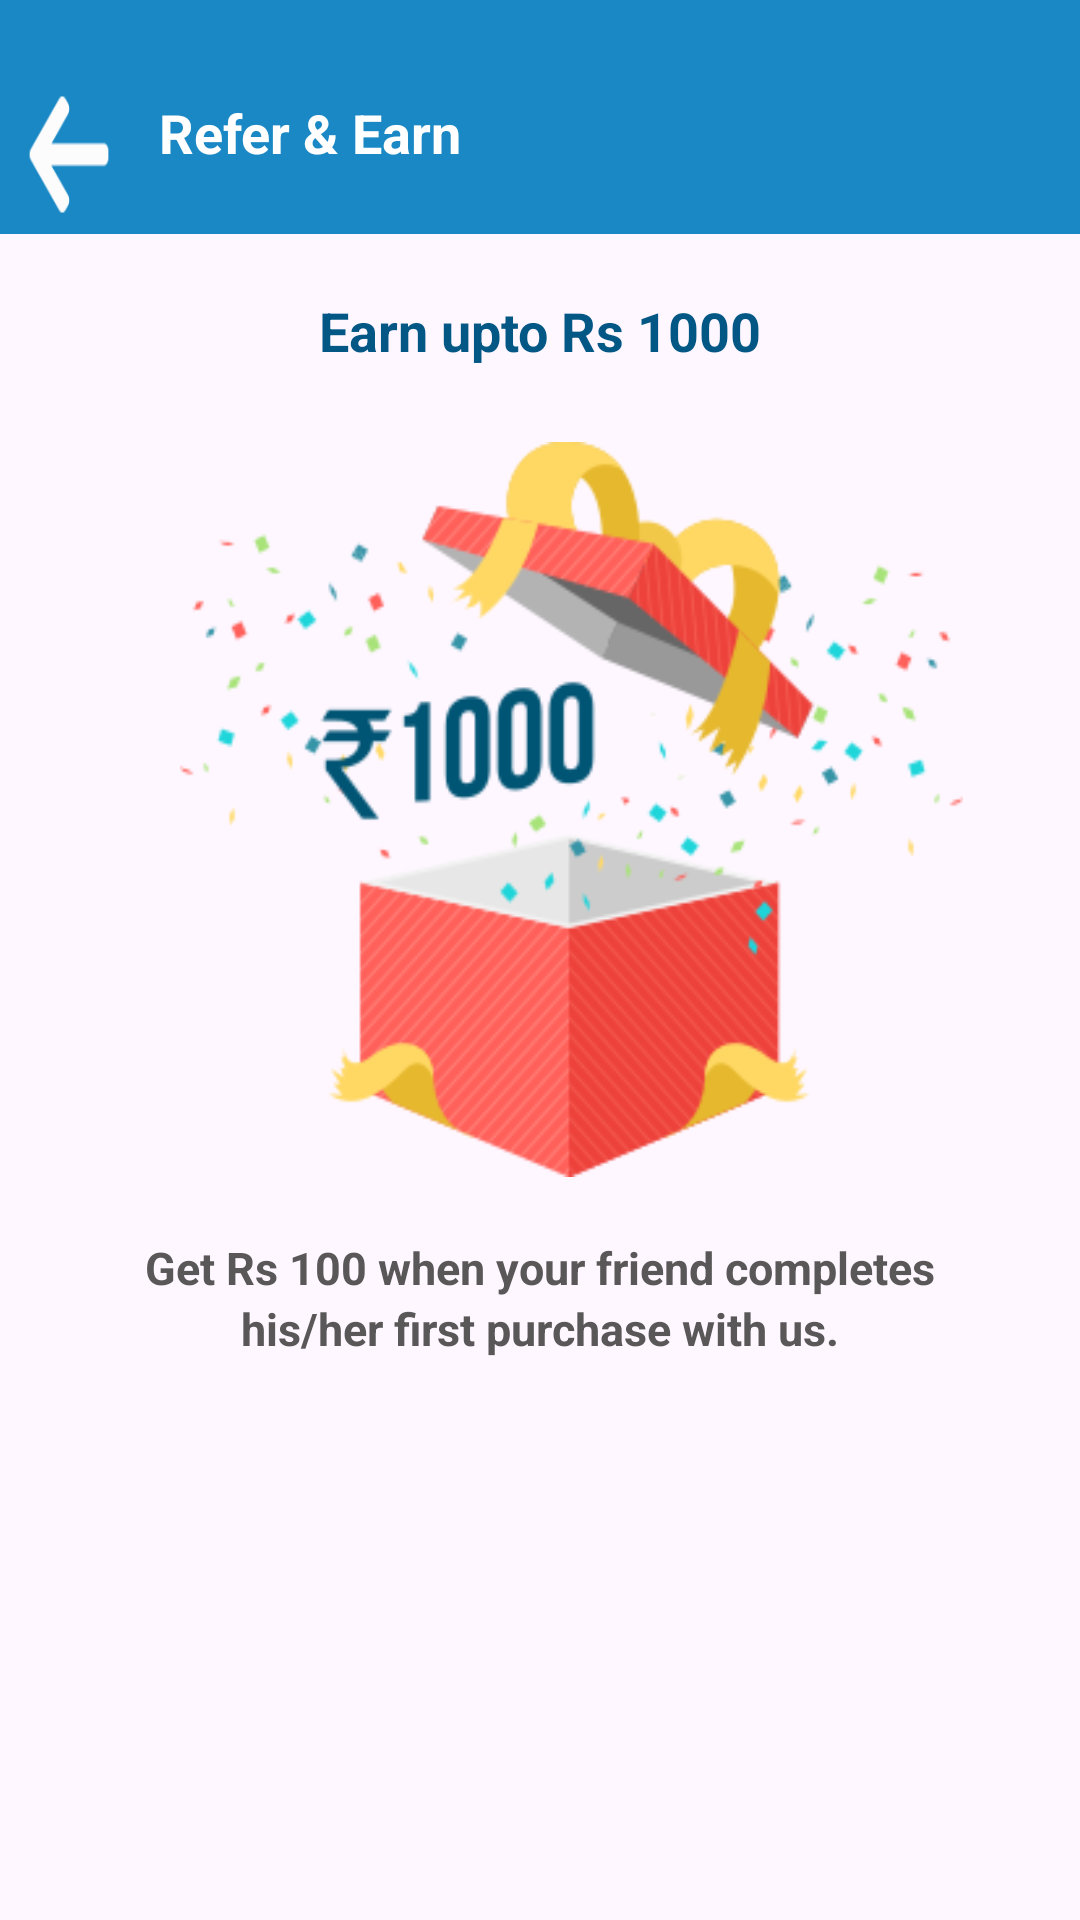

Point at icon controls on the screen. Image size 1080x1920, points as (x=x, y=y).
arrow left: (x=69, y=154)
